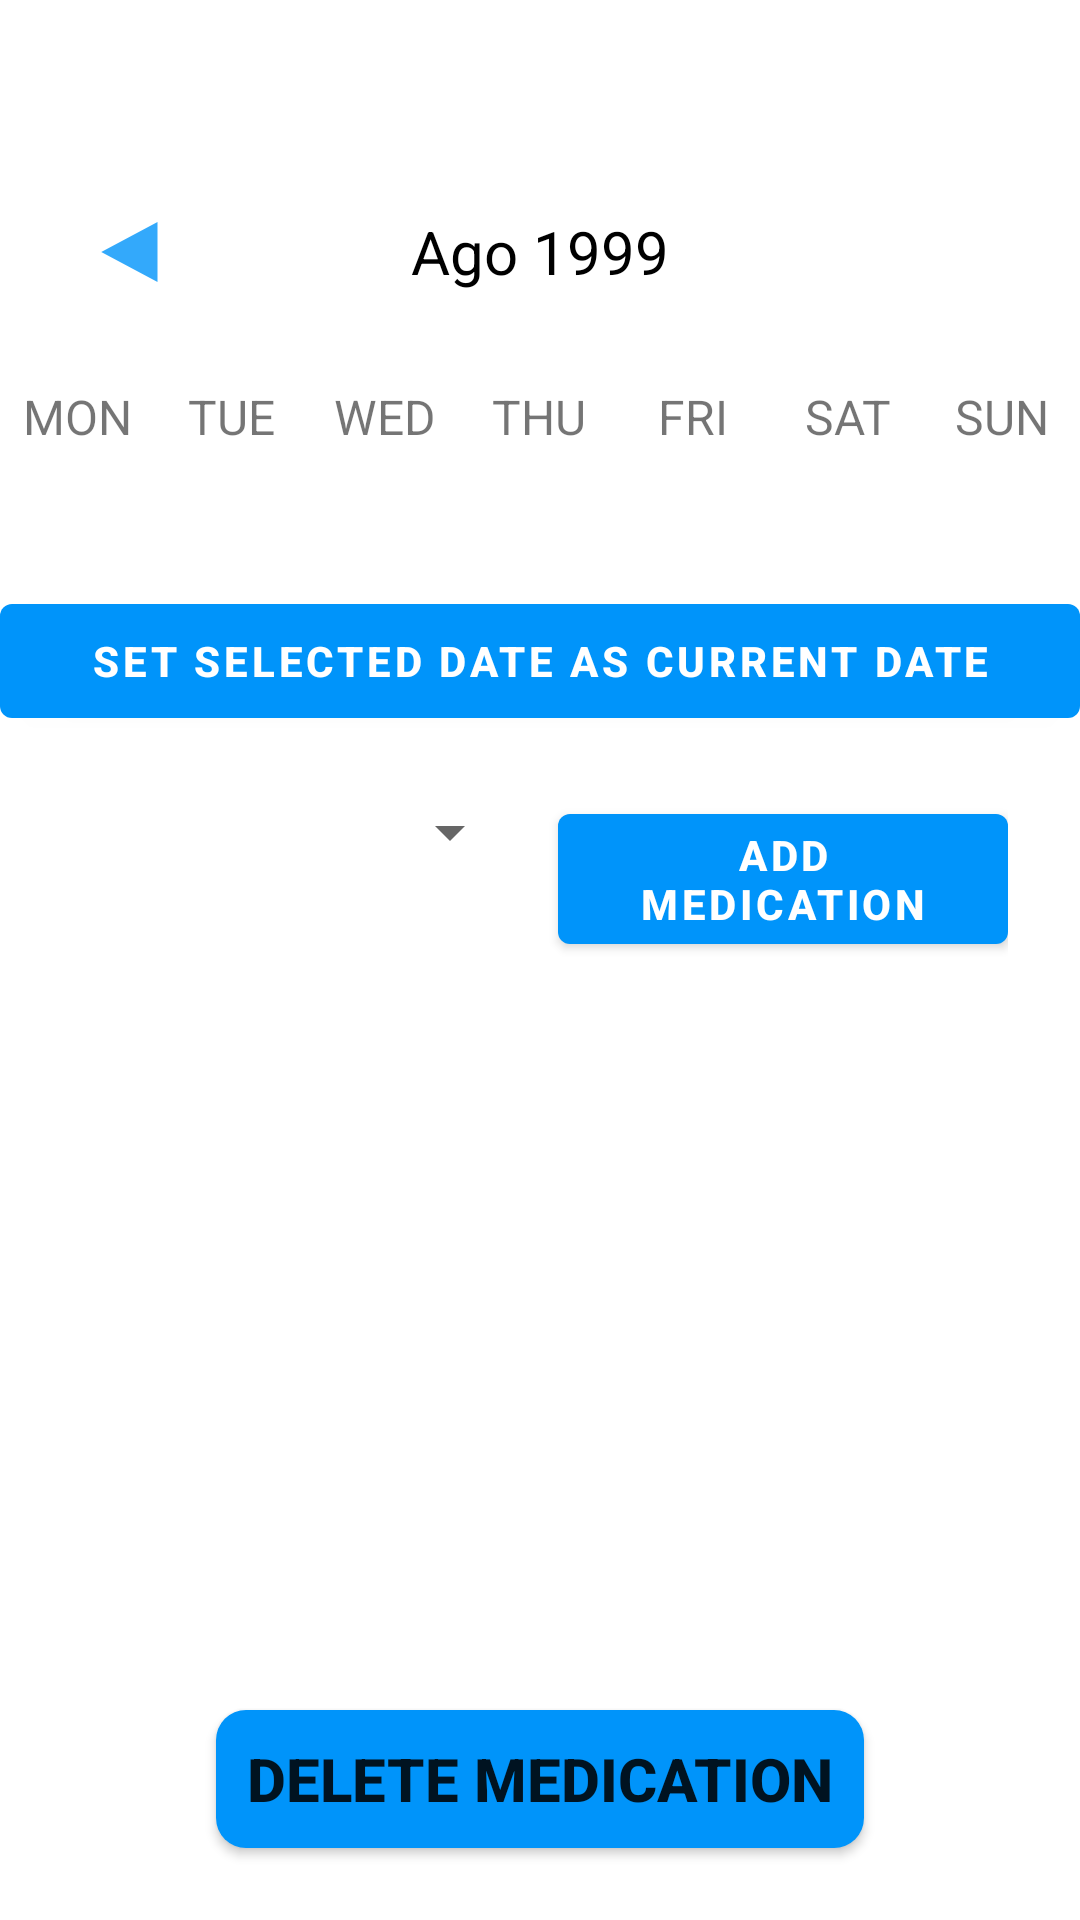

Named icons in this screenshot (1080w x 1920h) and their bounding boxes, (x1=x1, y1=y1, x2=x2, y2=y2):
arrow left: (x1=101, y1=222, x2=158, y2=282)
